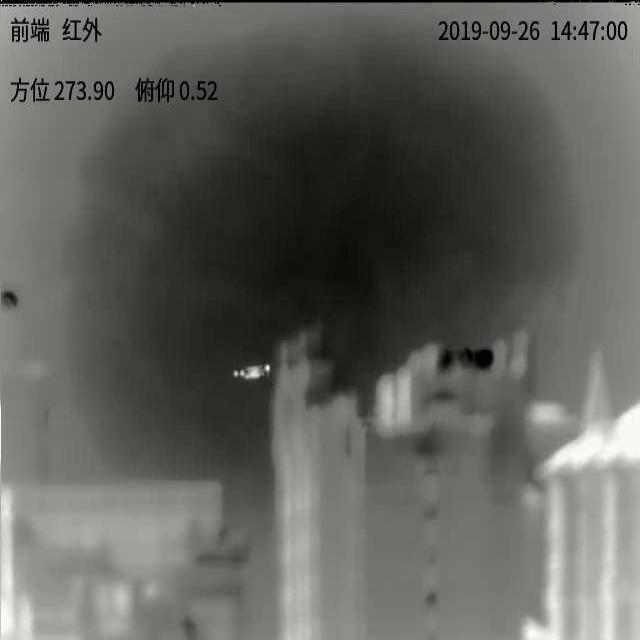drone: (233, 364, 271, 380)
